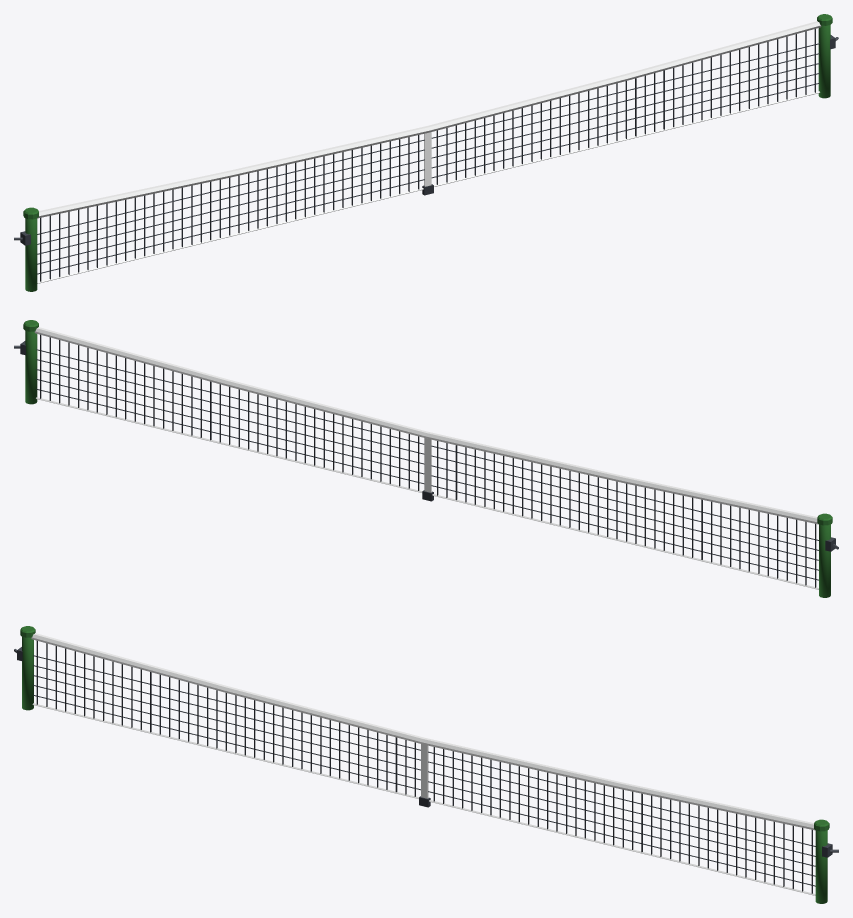
Rendered from Net.glb.
The picture shows the model from 3 angles, top to bottom: view 1: azimuth 30°, elevation 25°; view 2: azimuth 150°, elevation 25°; view 3: azimuth 330°, elevation 25°; orthographic projection.
Visible parts, largest first — view 1: Net; view 2: Net; view 3: Net.
Part boxes in pixels (x1,y1,x2,y2): Net: [14, 14, 838, 291]; Net: [14, 320, 838, 597]; Net: [14, 626, 838, 903].
Bounding box in the file's own units: 43.66 × 4.05 × 0.6848.
Materials: 1 (1 with a texture image).
